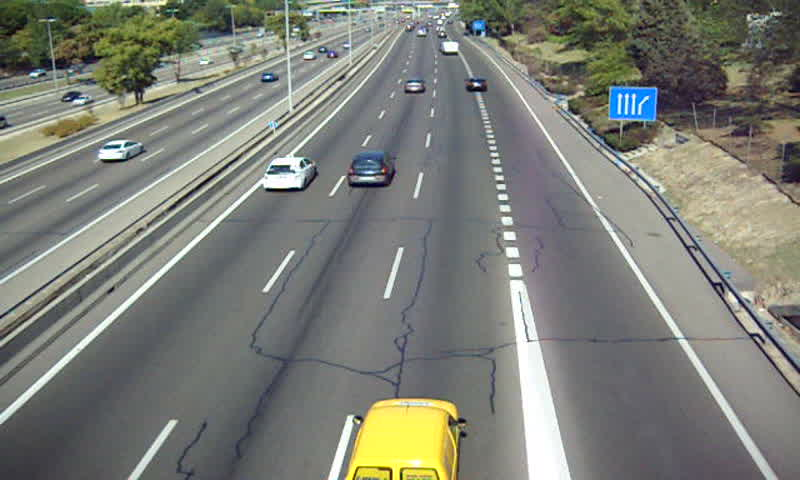car: (264, 157, 317, 190), (348, 153, 395, 185), (403, 76, 425, 93), (465, 78, 488, 92)
van: (344, 398, 460, 479), (442, 41, 460, 54)
